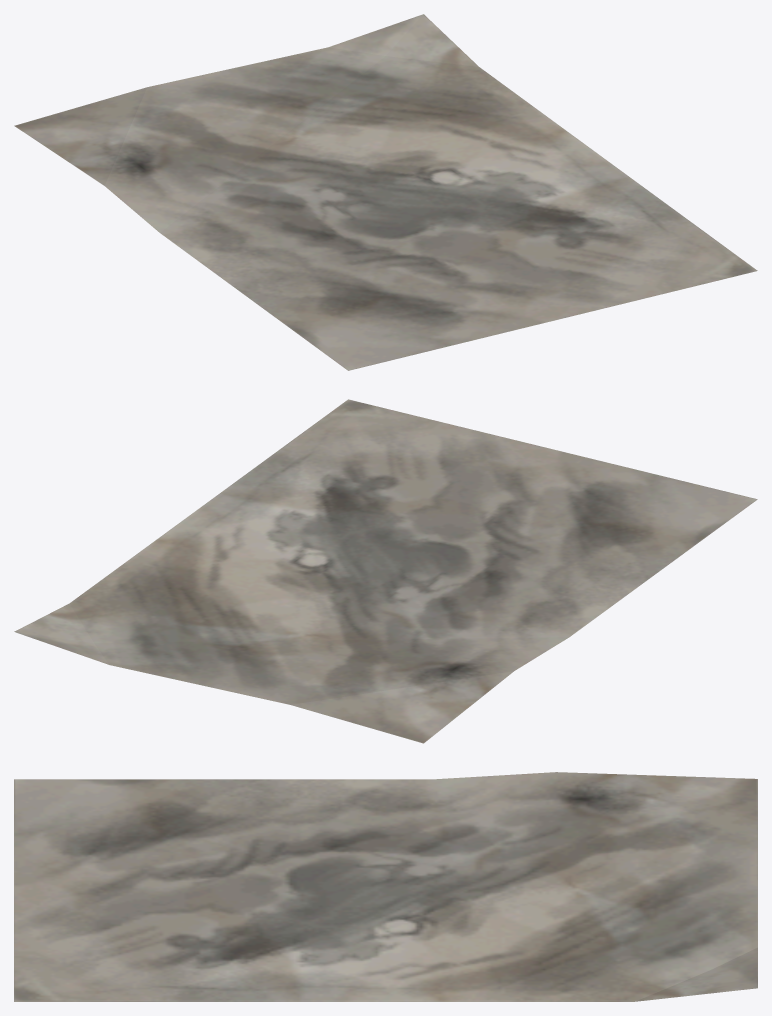
The model's file is feuilleciel.glb.
3 views of the same model, one above another, from view 1: azimuth 30°, elevation 25°; view 2: azimuth 150°, elevation 25°; view 3: azimuth 270°, elevation 25° (orthographic). The views are drawn at different scales.
Parts seen in each view (by area): view 1: Plane; view 2: Plane; view 3: Plane.
Boxes of the visible parts, x1,y1,x2,y2 form: Plane: (14,14,757,370); Plane: (14,399,757,743); Plane: (14,772,757,1001).
Bounding box in the file's own units: 0.2868 × 0.00816 × 0.4052.
Materials: 1 (1 with a texture image).
